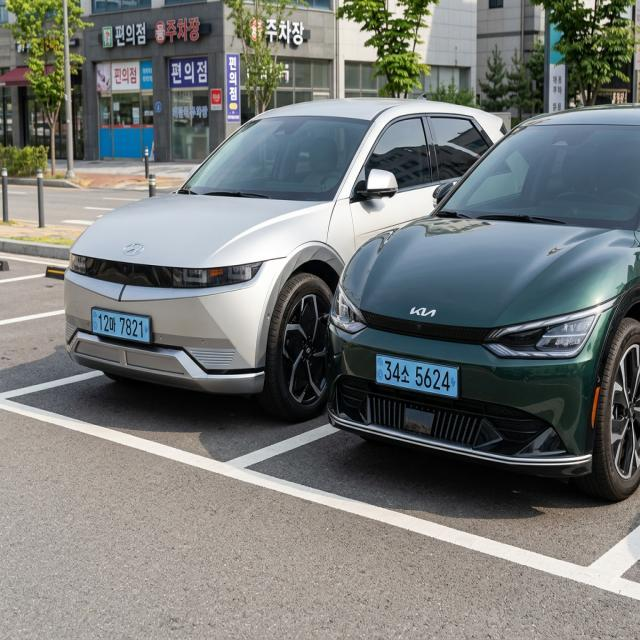car: (361, 346, 473, 410), (81, 302, 165, 350)
carev: (448, 356, 462, 403), (370, 351, 384, 395), (140, 305, 153, 350), (89, 305, 99, 343)
